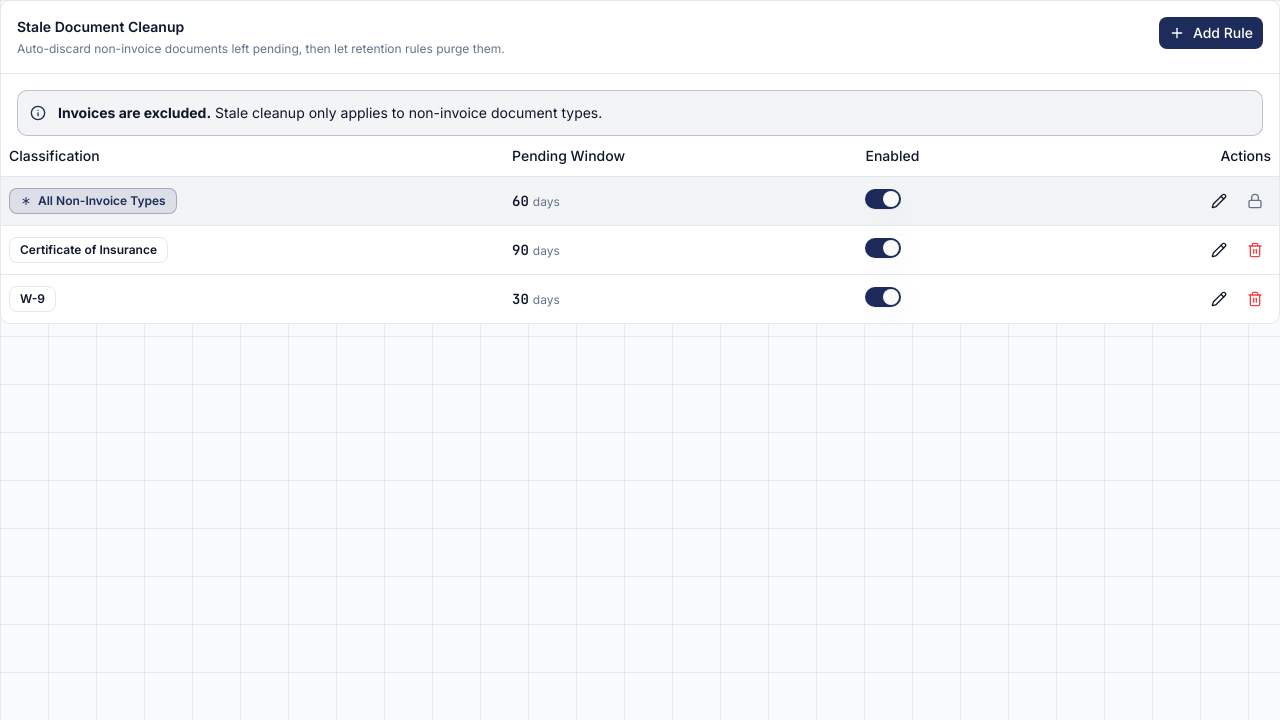
Test: StaleCleanupSection › blocks duplicate stale cleanup rows by classification
Click the button "Add Rule" at (1211, 33), box [1159,17,1263,49]
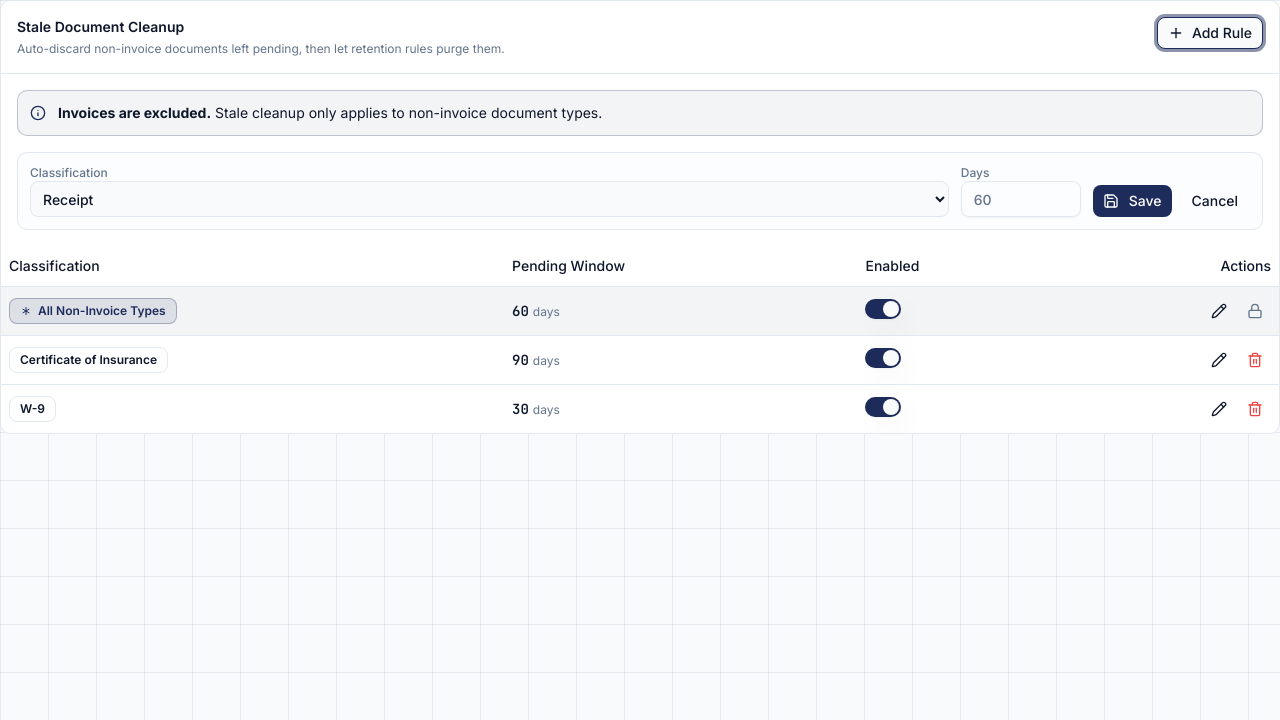
Select "Certificate of Insurance" in the dropdown labelled "Classification" at (489, 199), box [30,181,949,217]
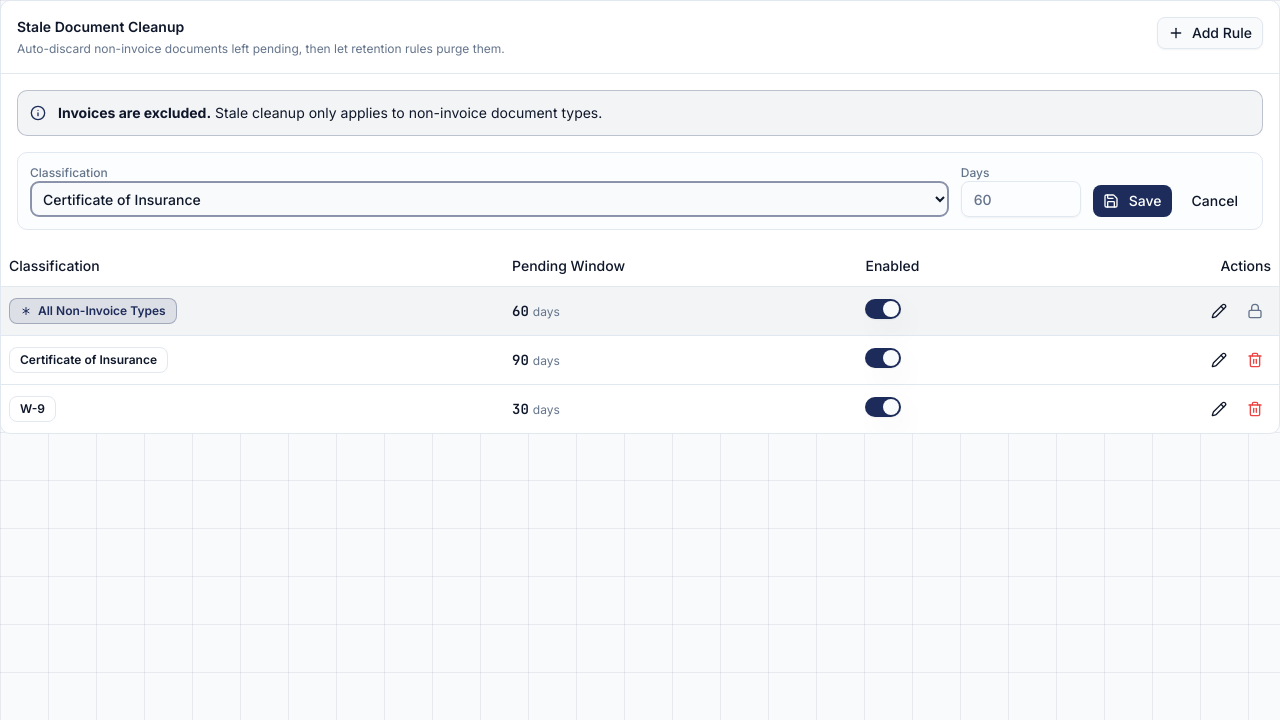
Click the button "Save" at (1132, 201), box [1093,185,1172,217]
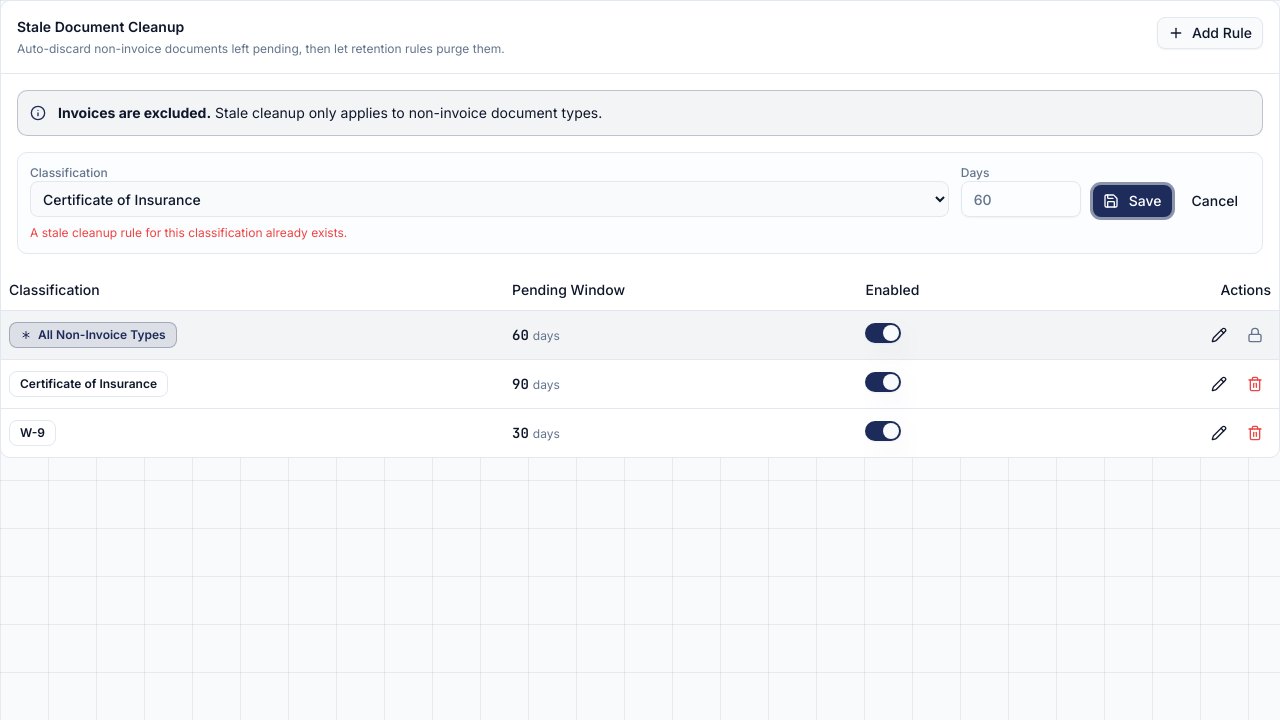
Now the text "A stale cleanup rule for this classification already exists." is shown, box [30,225,347,240]
